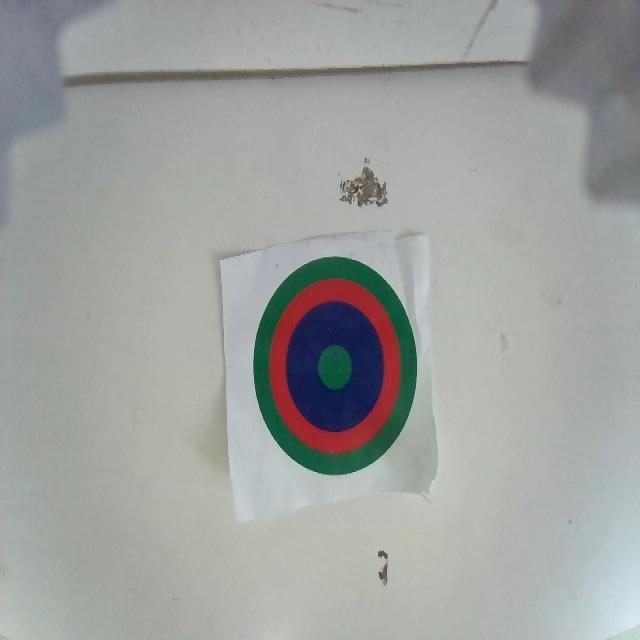cogn: (253, 256, 416, 474)
